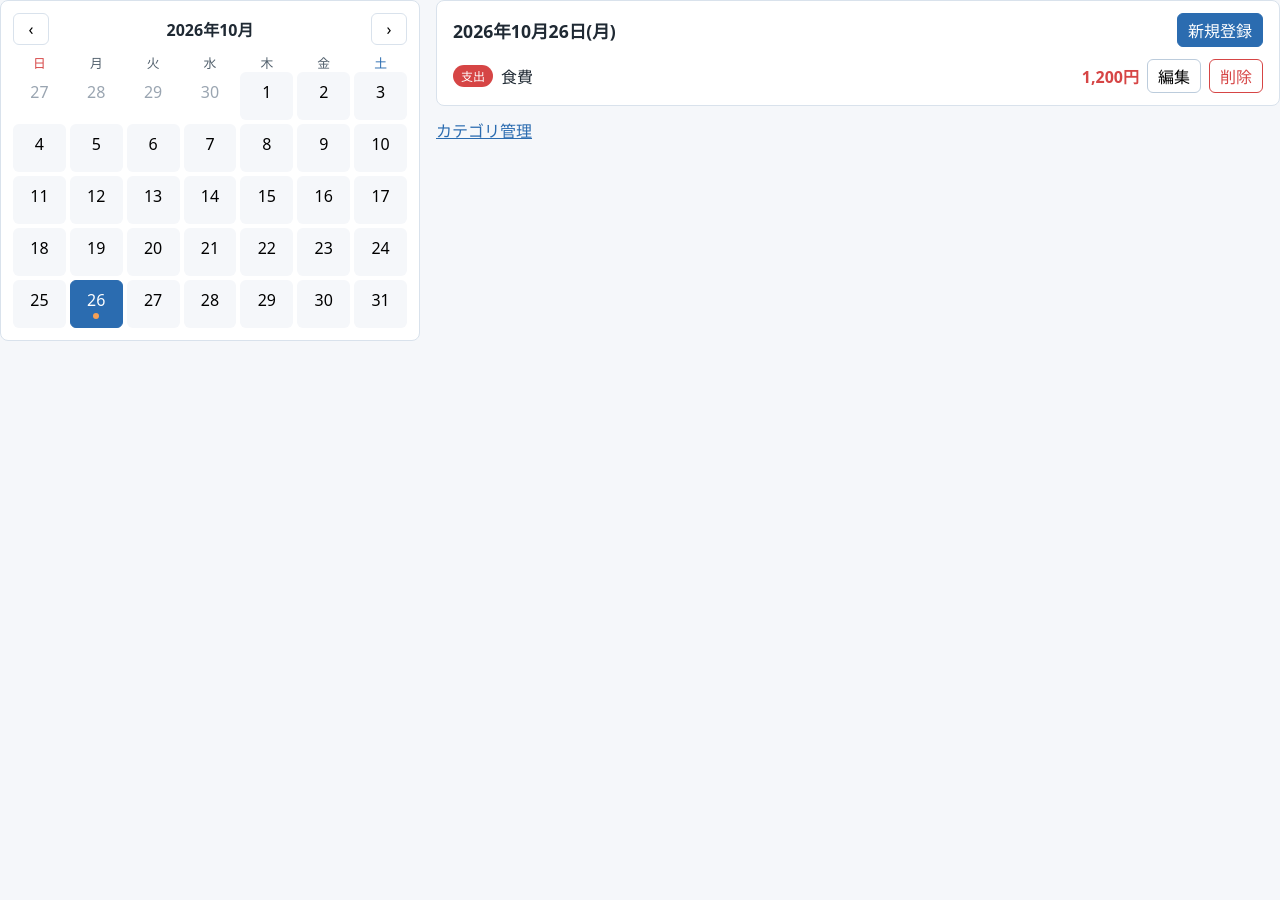
Scenario: CalendarView › edits a transaction
Click the button "編集": (1174, 76) [1147,59,1201,93]
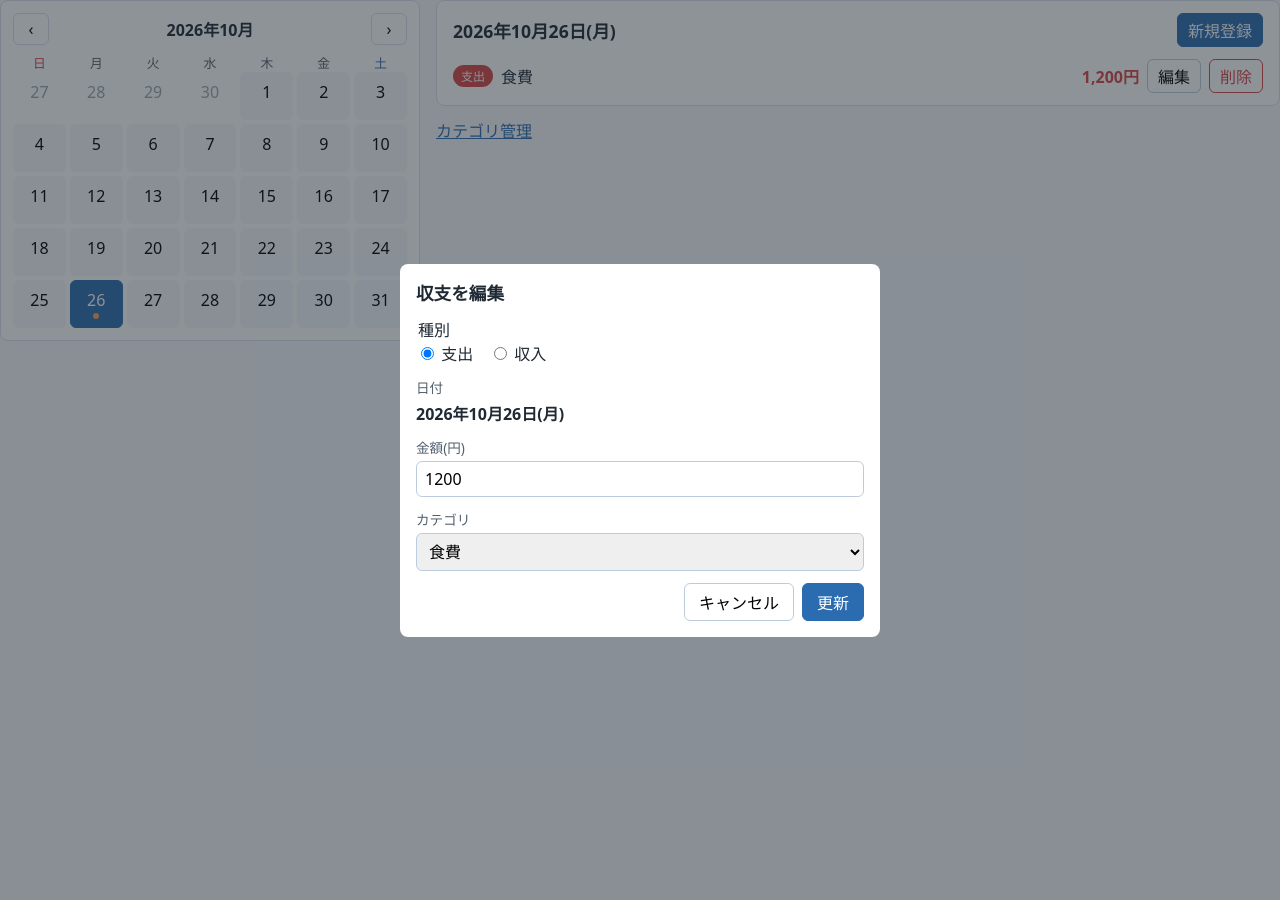
Replace the text in the field named "amount" with "1500": (640, 478) [416,460,864,496]
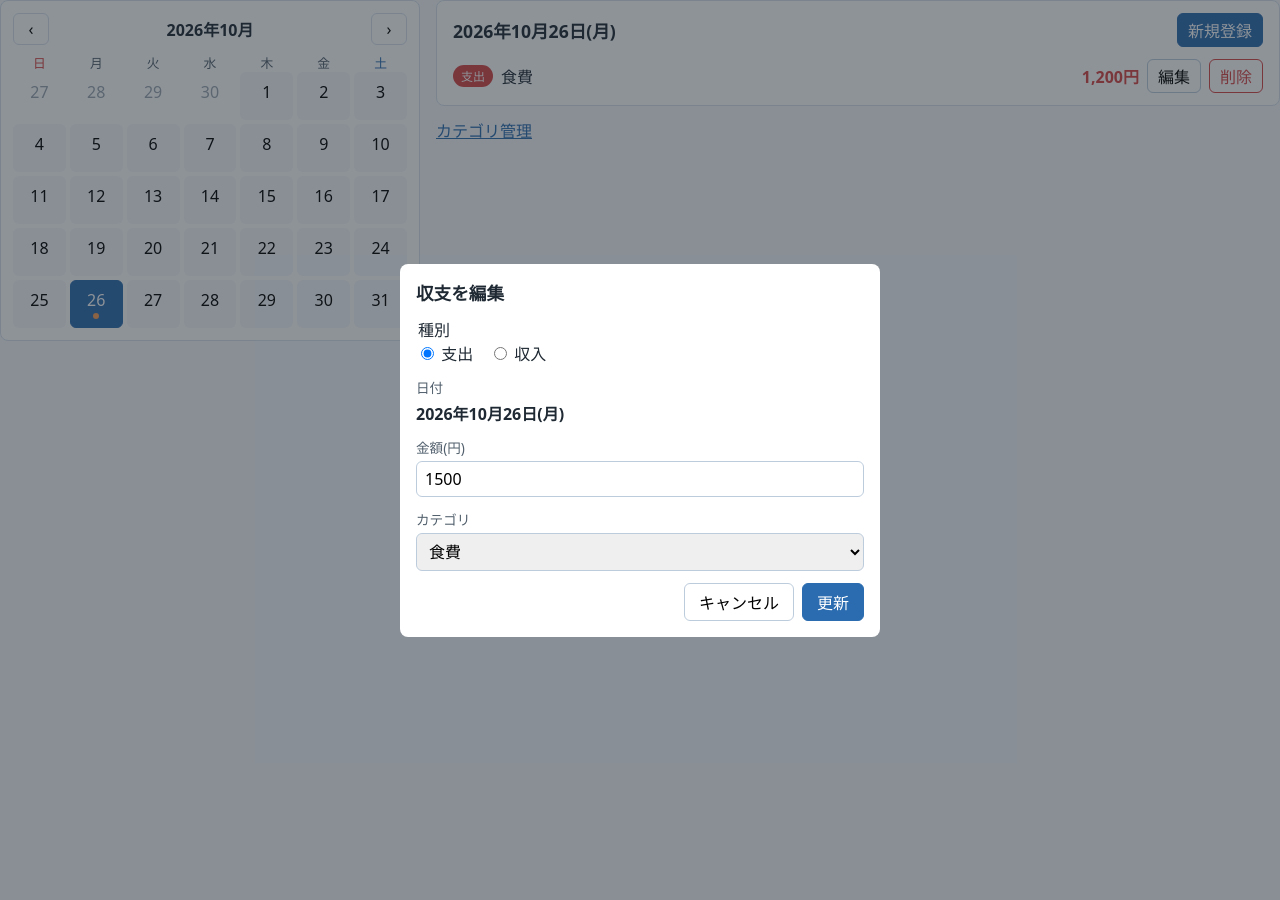
Submit the form, box [416,280,864,620]
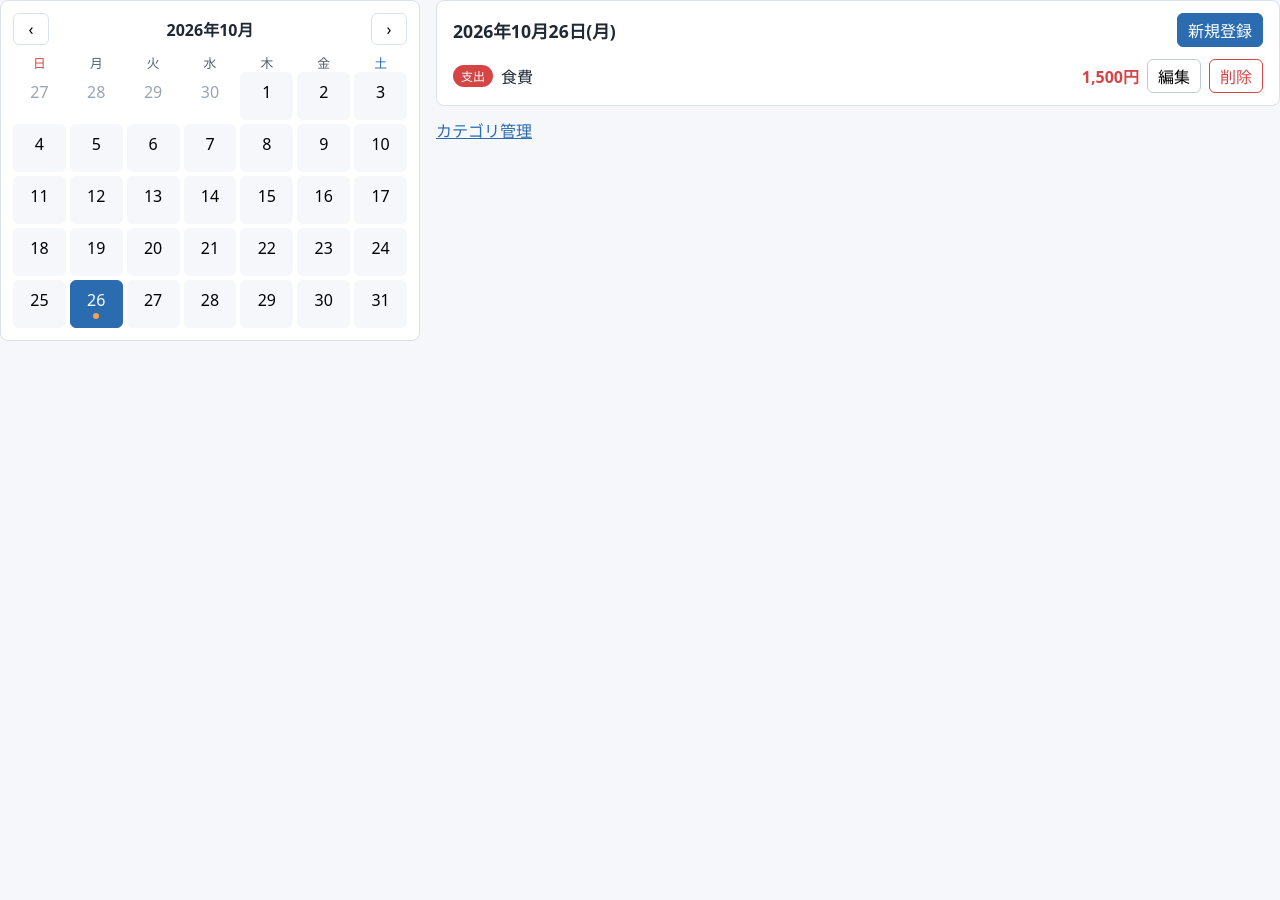
Expected: the list item "支出 食費 1,500円 編集 削除" is shown, [453,59,1263,93]
